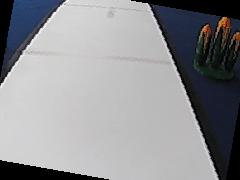corn: (192, 13, 239, 78)
